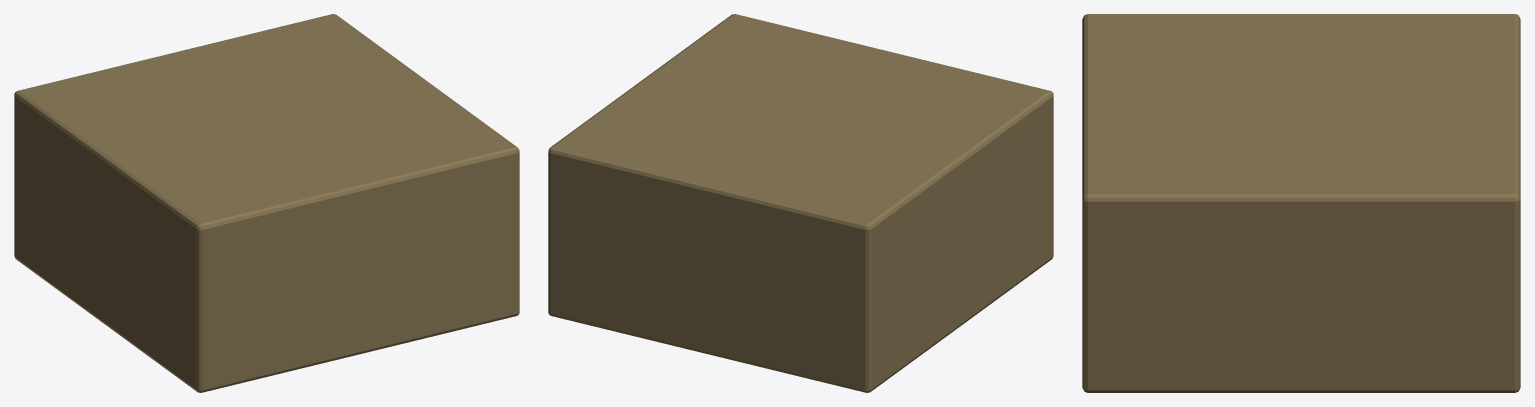
The model's file is SM_Platform_4m_02_B.fbx.
The picture shows the model from 3 angles, left to right: view 1: azimuth 30°, elevation 25°; view 2: azimuth 150°, elevation 25°; view 3: azimuth 270°, elevation 25°; orthographic projection. The views are drawn at different scales.
Parts seen in each view (by area): view 1: polySurface100; view 2: polySurface100; view 3: polySurface100.
Boxes of the visible parts, x1,y1,x2,y2 form: polySurface100: [14, 14, 519, 392]; polySurface100: [548, 14, 1053, 392]; polySurface100: [1082, 14, 1520, 392].
Bounding box in the file's own units: 400 × 200 × 400.
